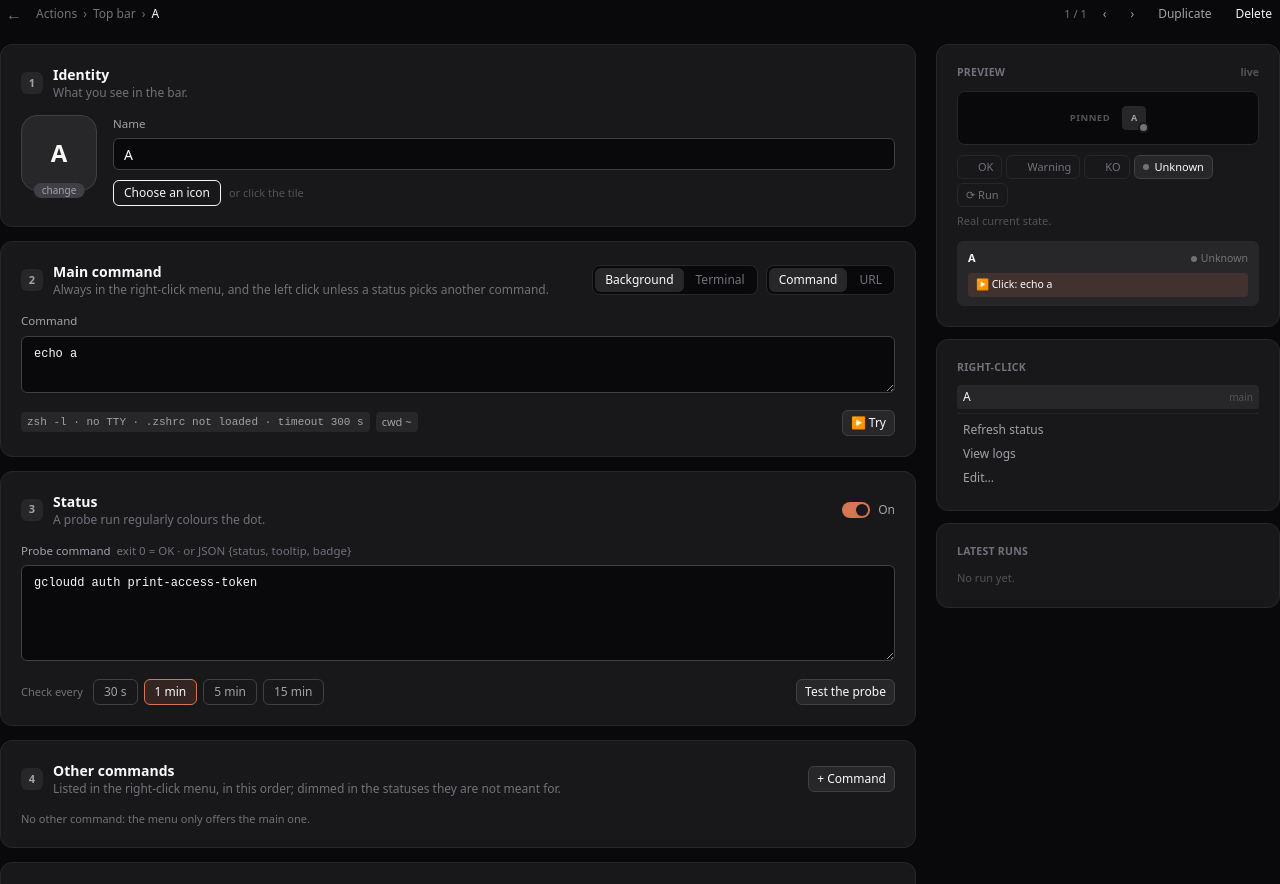
Scenario: ActionDetail · Test the probe › blames the probe, not the tool, when its own program is not found (exit 127)
What coordinates should you click on to do the following:
click the button "Test the probe"
I would click on:
 (846, 692)
Its box is [796,679,895,705].
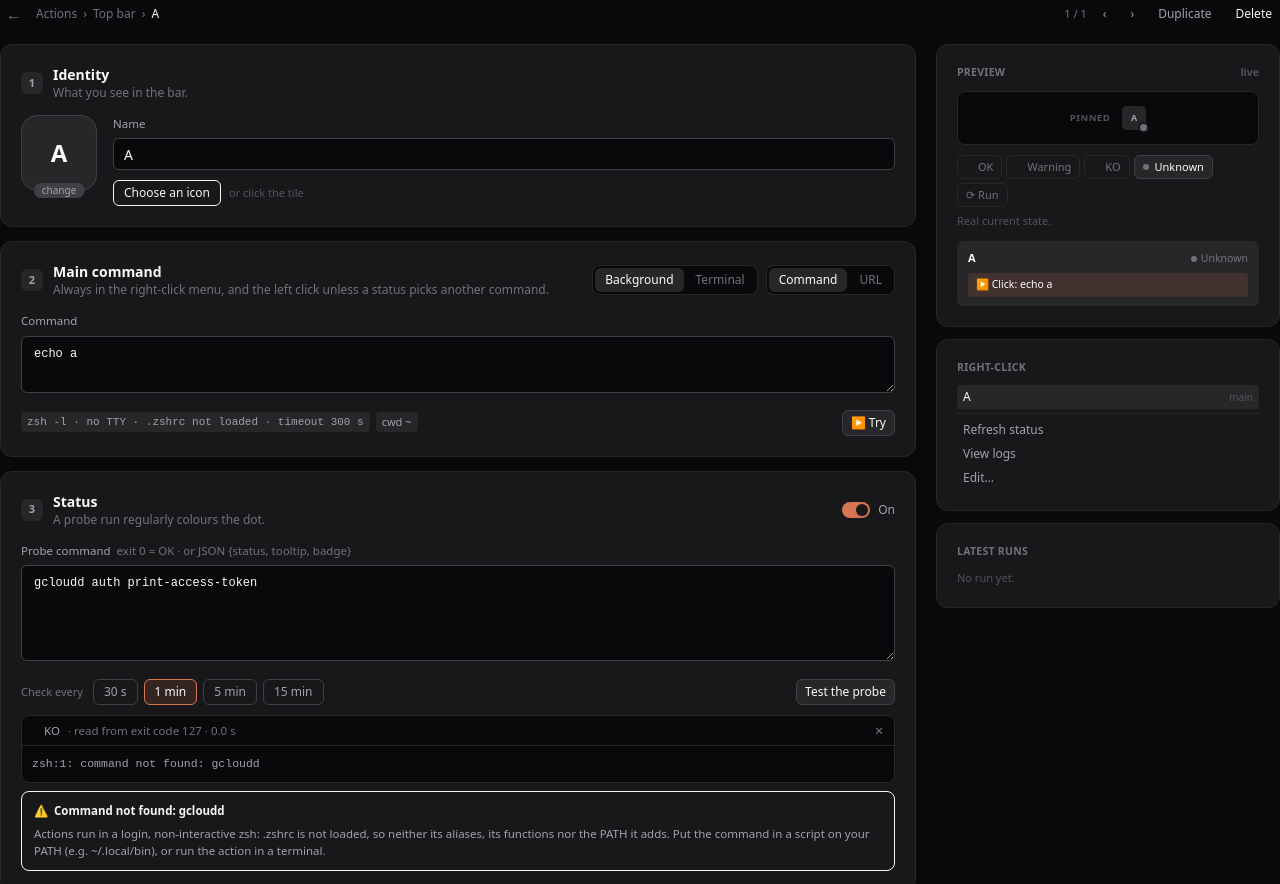
Expected: the element "Command not found: gcloudd" is shown, [21,791,895,871]
